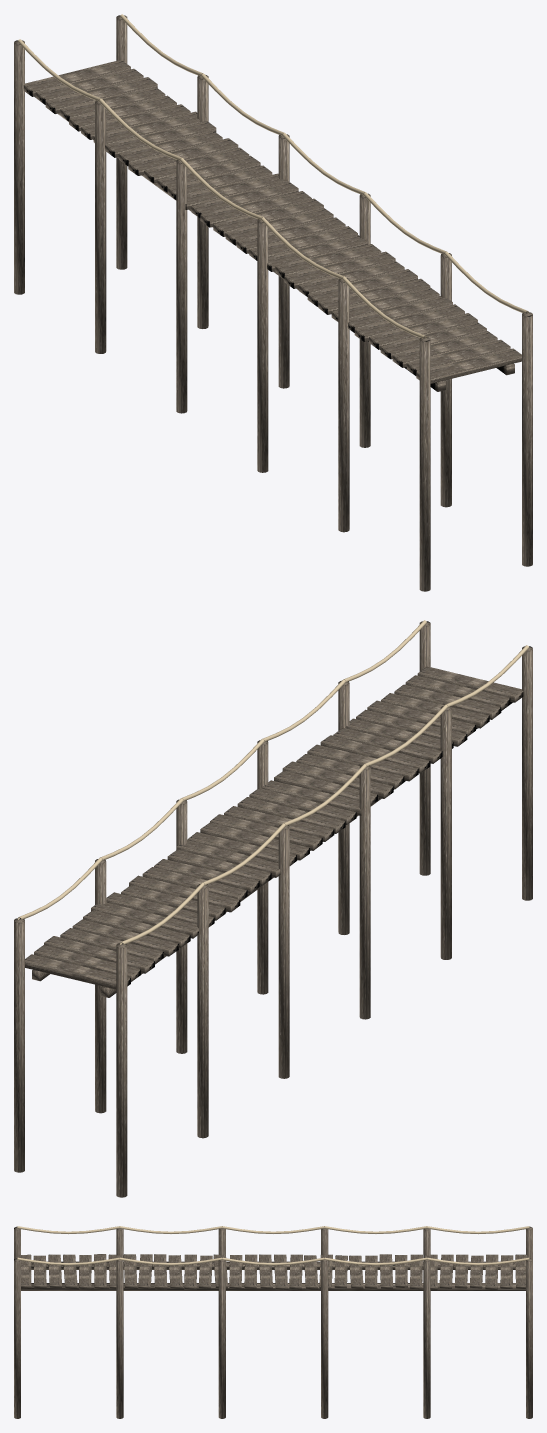
File: ponte.glb
The picture shows the model from 3 angles, top to bottom: view 1: azimuth 30°, elevation 25°; view 2: azimuth 150°, elevation 25°; view 3: azimuth 270°, elevation 25°; orthographic projection. The views are drawn at different scales.
Visible parts, largest first — view 1: corda.009; view 2: corda.009; view 3: corda.009.
Boxes of the visible parts, x1=… form: corda.009: x1=14, y1=14, x2=532, y2=591; corda.009: x1=14, y1=620, x2=532, y2=1197; corda.009: x1=14, y1=1226, x2=532, y2=1418.
Bounding box in the file's own units: 1.59 × 3.44 × 10.14.
2 materials, 1 textured.
